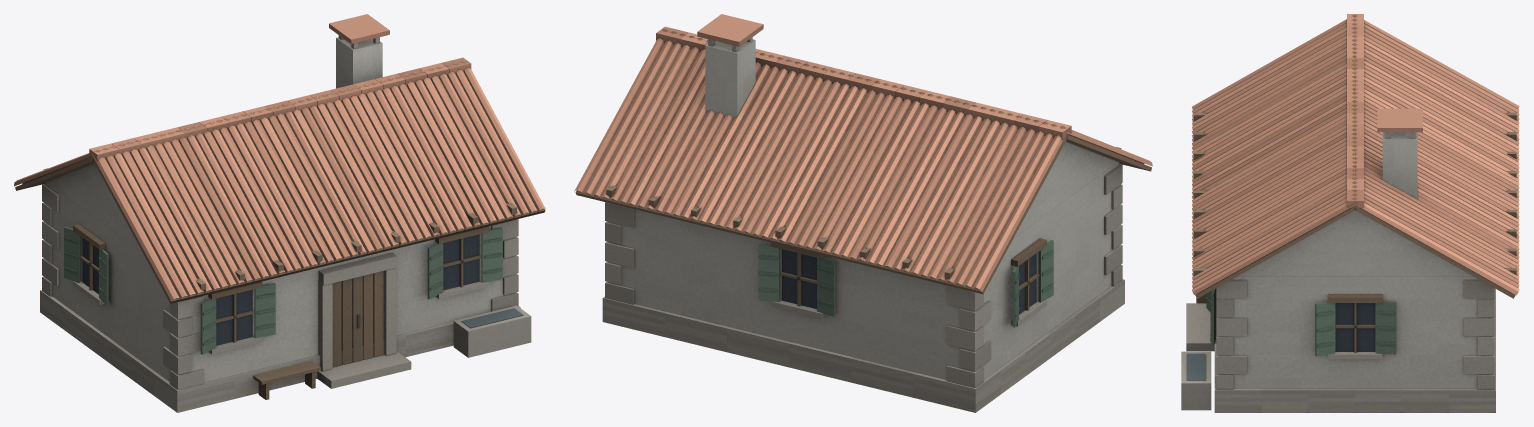
File: farmhouse.glb
The picture shows the model from 3 angles, left to right: view 1: azimuth 30°, elevation 25°; view 2: azimuth 150°, elevation 25°; view 3: azimuth 270°, elevation 25°; orthographic projection. The views are drawn at different scales.
Visible parts, largest first — view 1: Farmhouse; view 2: Farmhouse; view 3: Farmhouse.
Boxes of the visible parts, box(x1,y1,x2,y2) form: Farmhouse: box(14, 14, 545, 412); Farmhouse: box(574, 14, 1152, 412); Farmhouse: box(1181, 14, 1519, 412).
Bounding box in the file's own units: 8.93 × 5.76 × 6.8.
Materials: 1 (1 with a texture image).
